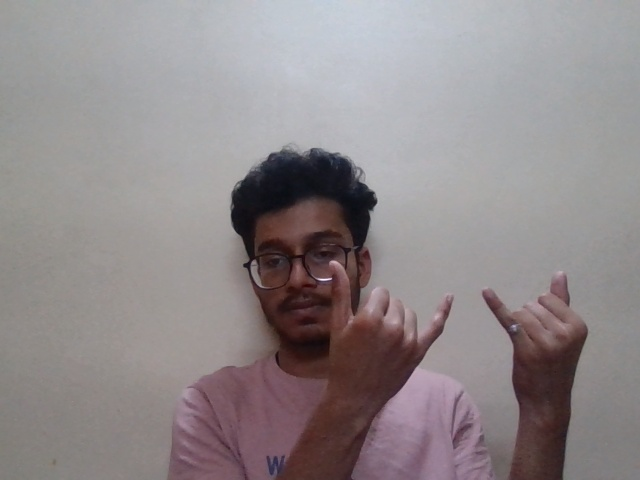today: (321, 260, 600, 422)
